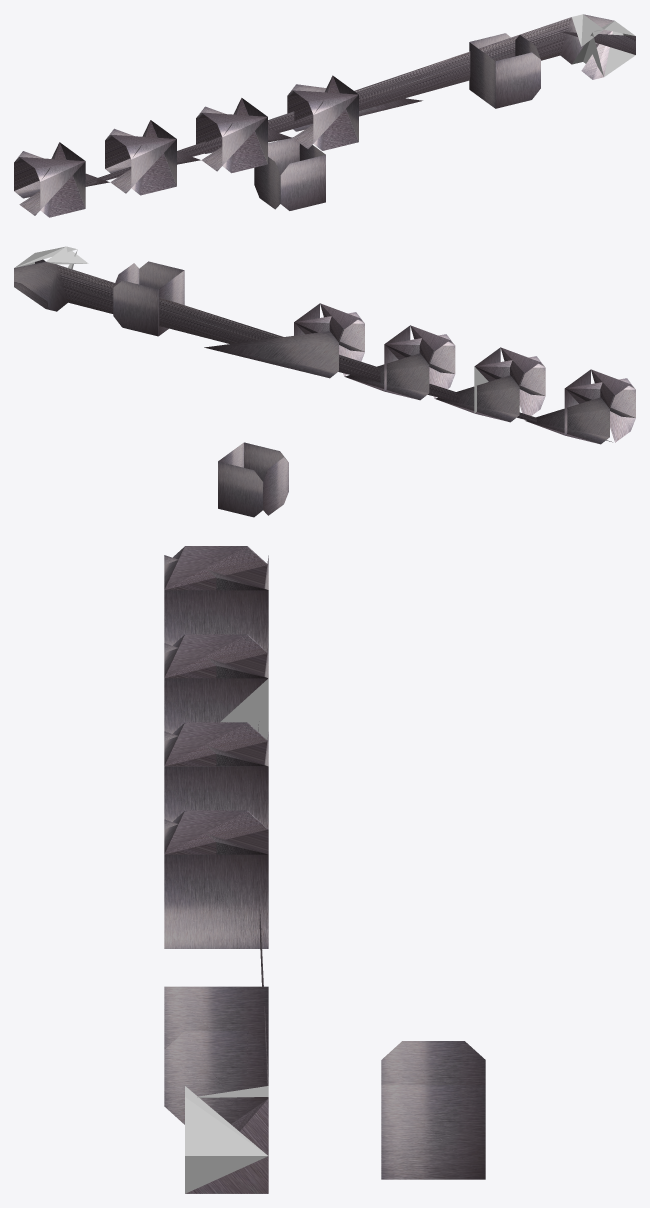
File: prueba10.obj
3 views of the same model, one above another, from view 1: azimuth 30°, elevation 25°; view 2: azimuth 150°, elevation 25°; view 3: azimuth 270°, elevation 25° (orthographic). The views are drawn at different scales.
Size of the model in its own units: 13.2 by 3.22 by 3.08.
